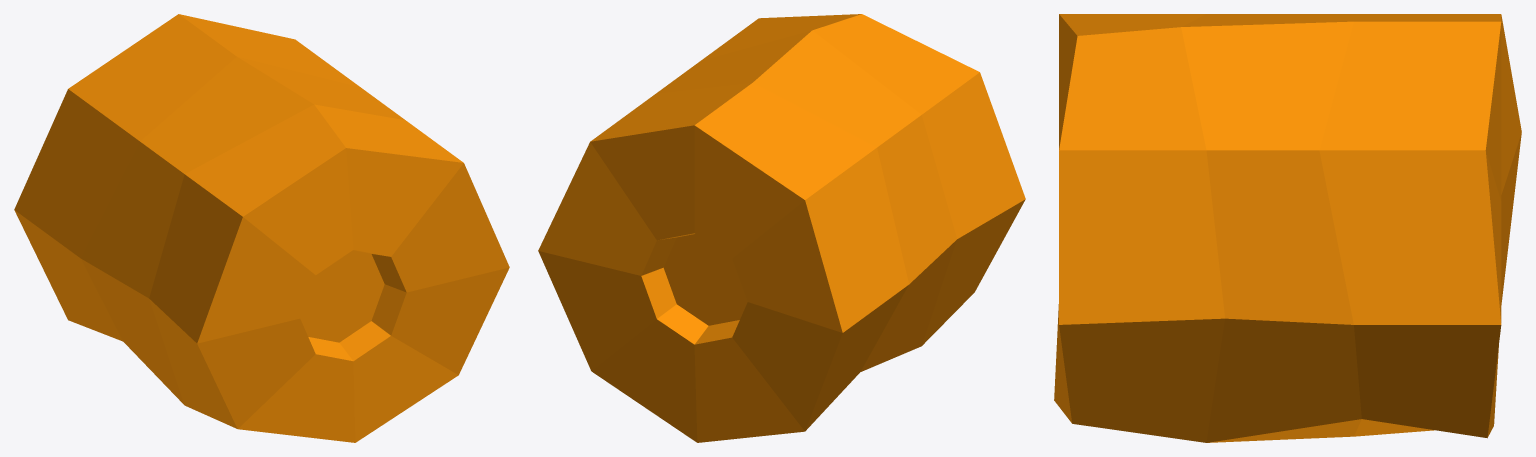
File: hay_1.FBX
The picture shows the model from 3 angles, left to right: view 1: azimuth 30°, elevation 25°; view 2: azimuth 150°, elevation 25°; view 3: azimuth 270°, elevation 25°; orthographic projection. The views are drawn at different scales.
Parts seen in each view (by area): view 1: hay_1; view 2: hay_1; view 3: hay_1.
Boxes of the visible parts, x1,y1,x2,y2 form: hay_1: (14,14,509,442); hay_1: (538,14,1025,442); hay_1: (1054,14,1521,442).
Size of the model in its own units: 0.9968 by 0.9999 by 1.02.
Materials: 1 (1 with a texture image).
